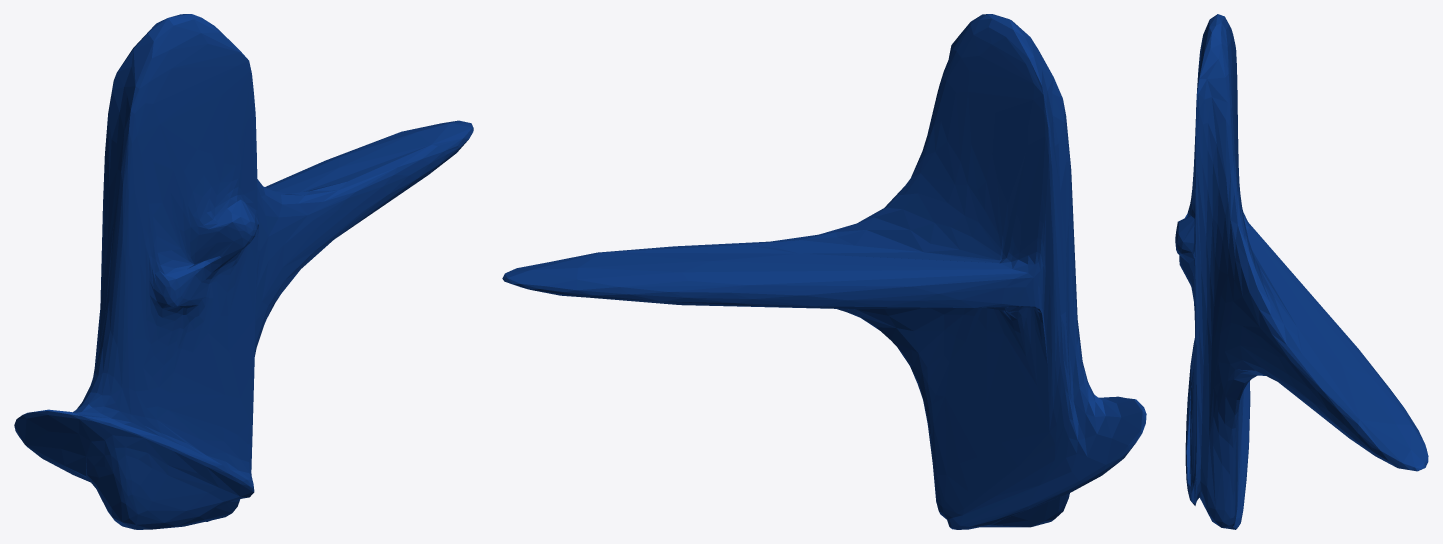
3 renders of one model, left to right at view 1: azimuth 30°, elevation 25°; view 2: azimuth 150°, elevation 25°; view 3: azimuth 270°, elevation 25°, orthographic. The views are drawn at different scales.
Parts seen in each view (by area): view 1: 622_Cube.2501; view 2: 622_Cube.2501; view 3: 622_Cube.2501.
Boxes of the visible parts, left/top/right/bottom form: 622_Cube.2501: left=14, top=14, right=473, bottom=529; 622_Cube.2501: left=502, top=14, right=1146, bottom=529; 622_Cube.2501: left=1175, top=14, right=1428, bottom=529.
Size of the model in its own units: 12.96 by 11.69 by 5.43.
